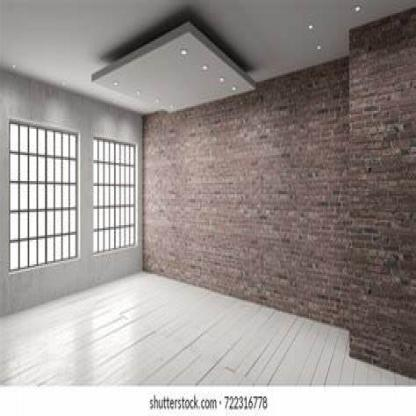Window: (9, 122, 78, 276), (92, 138, 136, 253)
